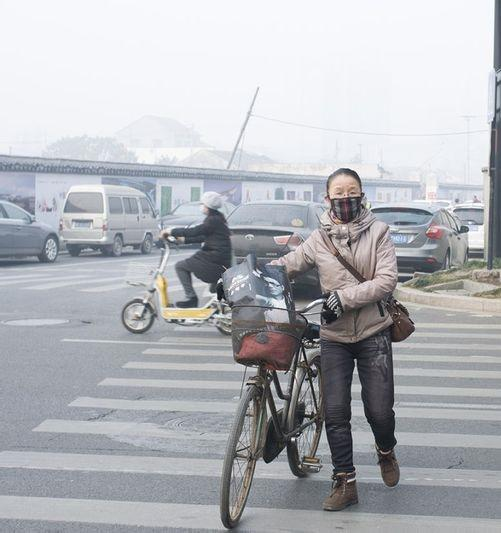OK: (328, 187, 363, 222)
